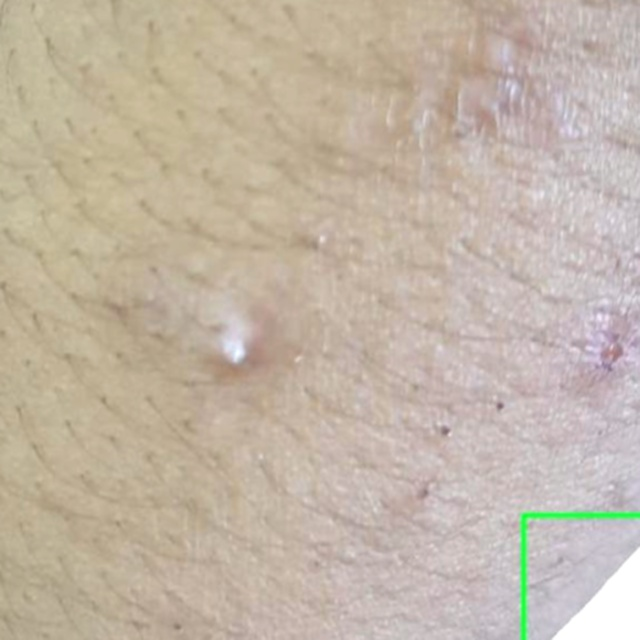Scabies: (523, 515, 639, 639)
